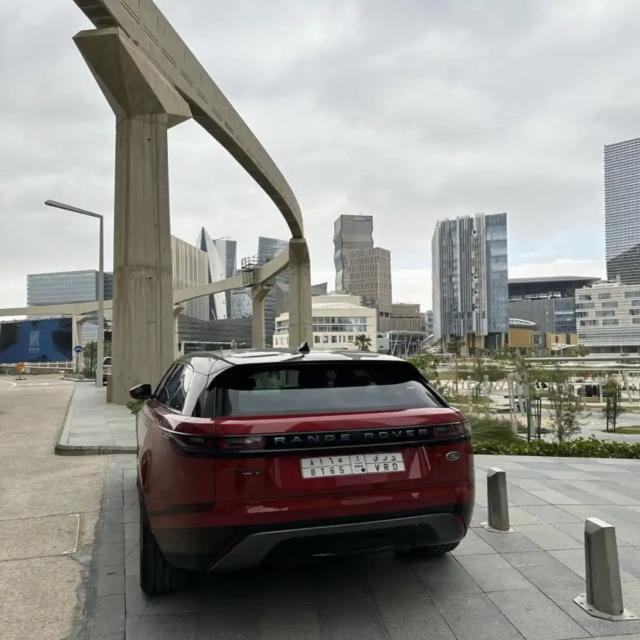license_plate: (298, 453, 408, 478)
